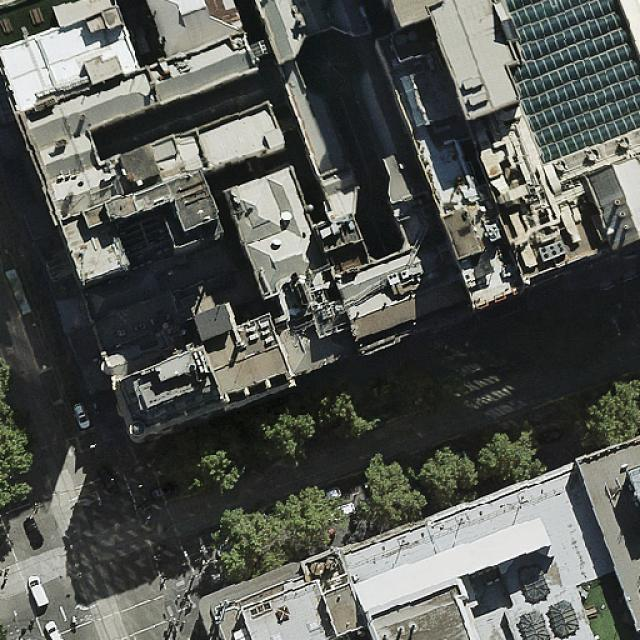Bike-Symbols: (79, 614, 92, 622)
